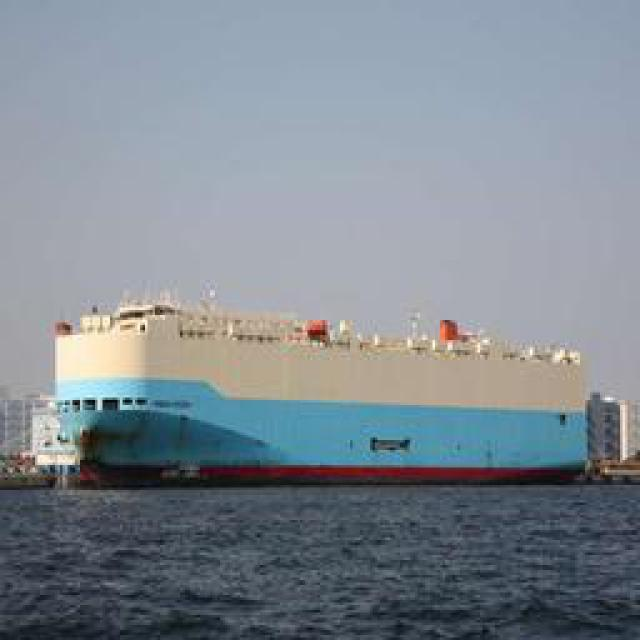Ship: (40, 300, 620, 490)
